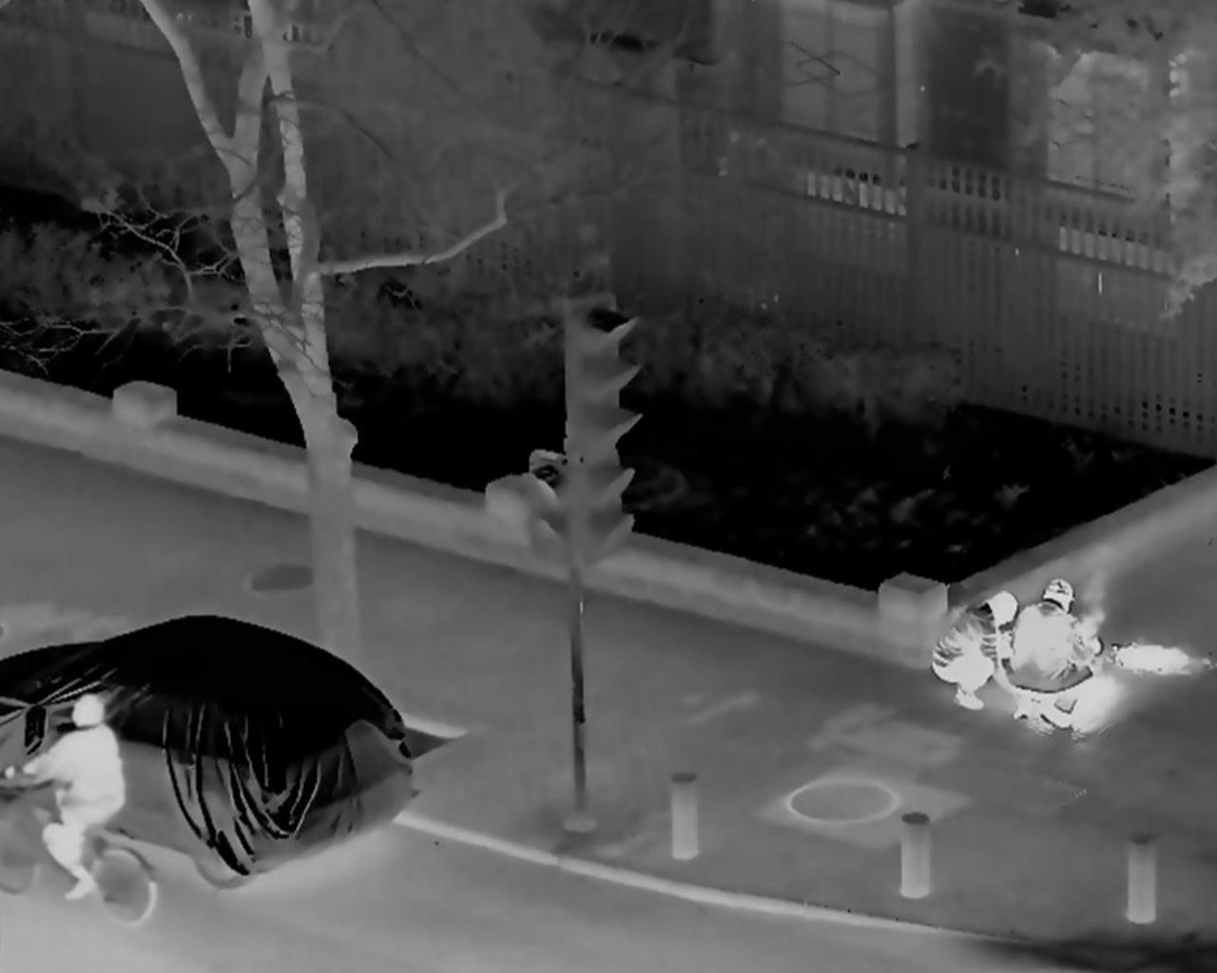person: (21, 699, 127, 903), (1007, 575, 1096, 724), (930, 591, 1019, 716)
